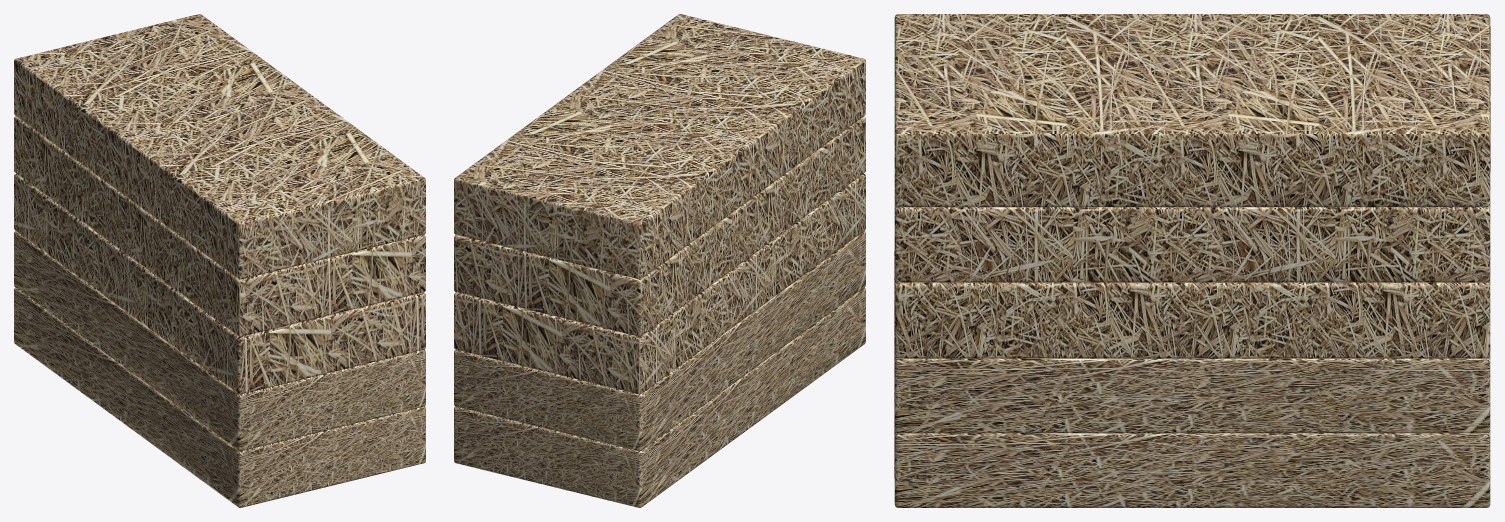
File: hayBlock.fbx
3 renders of one model, left to right at view 1: azimuth 30°, elevation 25°; view 2: azimuth 150°, elevation 25°; view 3: azimuth 270°, elevation 25°, orthographic. The views are drawn at different scales.
Visible parts, largest first — view 1: Box005, Box004, Box003; view 2: Box005, Box004, Box003; view 3: Box005, Box004, Box003.
Boxes of the visible parts, bbox=[...] form: Box005: bbox=[14, 14, 425, 394]; Box004: bbox=[14, 231, 425, 451]; Box003: bbox=[14, 287, 425, 507]; Box005: bbox=[454, 14, 865, 394]; Box004: bbox=[454, 231, 865, 451]; Box003: bbox=[454, 287, 865, 507]; Box005: bbox=[894, 14, 1490, 358]; Box004: bbox=[894, 329, 1490, 433]; Box003: bbox=[894, 404, 1490, 507].
Bounding box in the file's own units: 11.58 × 16.74 × 24.08.
